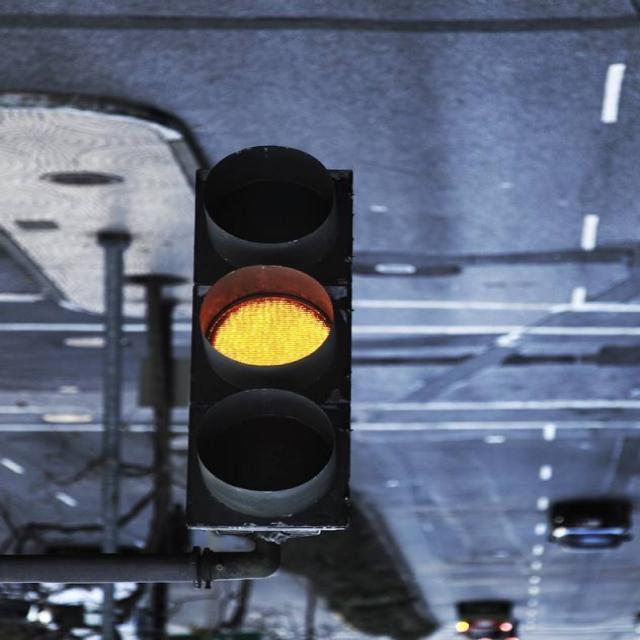yellow_light: (187, 146, 352, 533)
